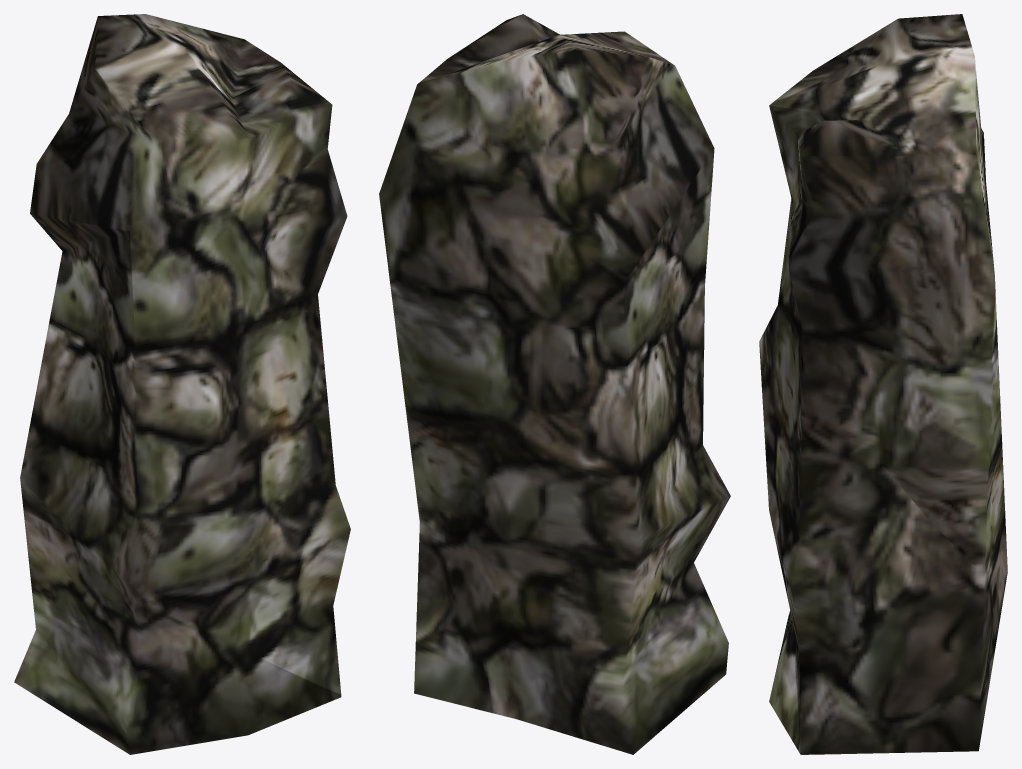
Rendered from STR_WallStoneC.FBX.
3 renders of one model, left to right at view 1: azimuth 30°, elevation 25°; view 2: azimuth 150°, elevation 25°; view 3: azimuth 270°, elevation 25°, orthographic. The views are drawn at different scales.
Visible parts, largest first — view 1: STR_WallStoneC; view 2: STR_WallStoneC; view 3: STR_WallStoneC.
Boxes of the visible parts, x1,y1,x2,y2 form: STR_WallStoneC: (14, 14, 350, 754); STR_WallStoneC: (379, 14, 730, 754); STR_WallStoneC: (759, 14, 1007, 754).
Size of the model in its own units: 200 by 502 by 171.
Materials: 1 (1 with a texture image).
